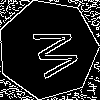W: (23, 24, 81, 82)
